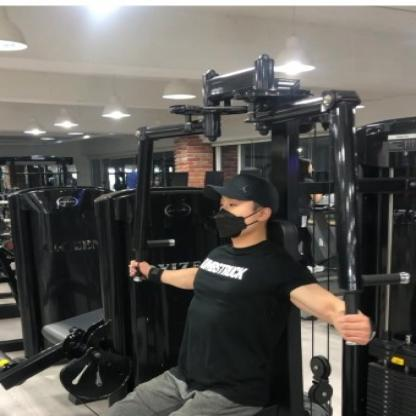chest fly machine: (37, 45, 412, 404)
